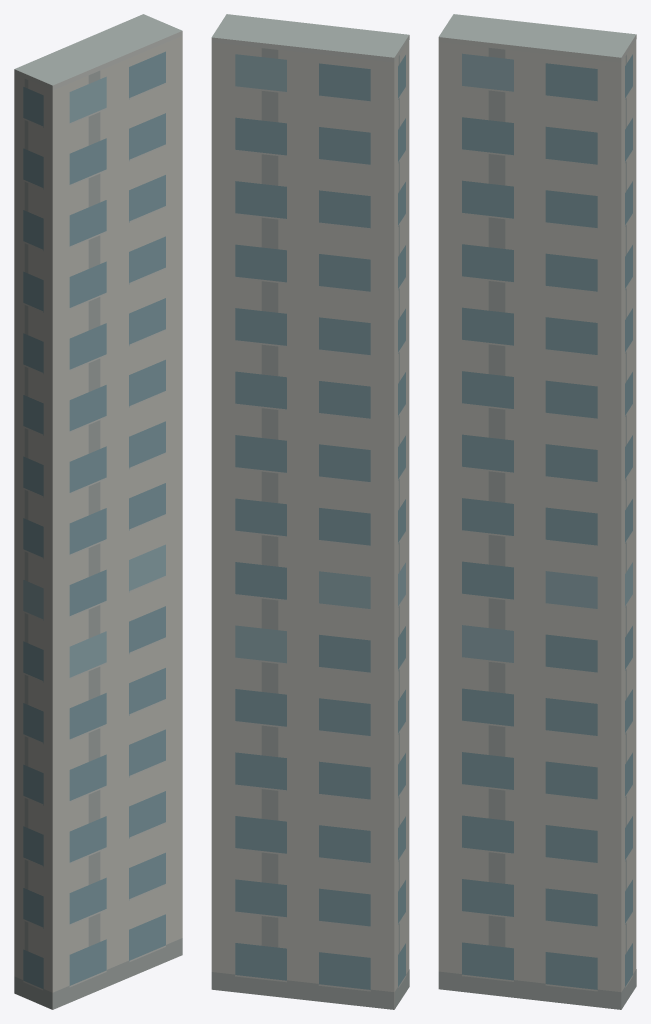
File: survey-upis-32928232.glb
3 views of the same model, side by side, from view 1: azimuth 30°, elevation 25°; view 2: azimuth 150°, elevation 25°; view 3: azimuth 330°, elevation 25° (orthographic). The views are drawn at different scales.
Visible parts, largest first — view 1: survey-upis-32928232.tmp; view 2: survey-upis-32928232.tmp; view 3: survey-upis-32928232.tmp.
Boxes of the visible parts, bbox=[...] form: survey-upis-32928232.tmp: bbox=[14, 14, 182, 1009]; survey-upis-32928232.tmp: bbox=[211, 14, 409, 1009]; survey-upis-32928232.tmp: bbox=[438, 14, 636, 1009].
Size of the model in its own units: 8.59 by 45.75 by 4.56.
